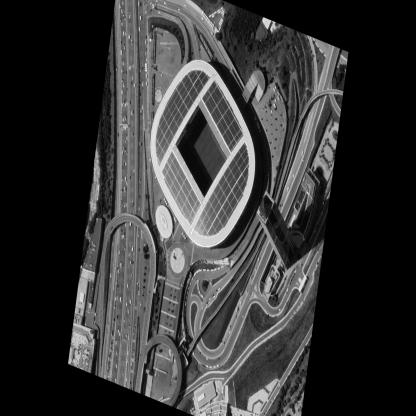solar-pv-panel: (155, 69, 210, 167), (193, 142, 249, 237), (201, 79, 244, 153), (161, 150, 201, 226)
